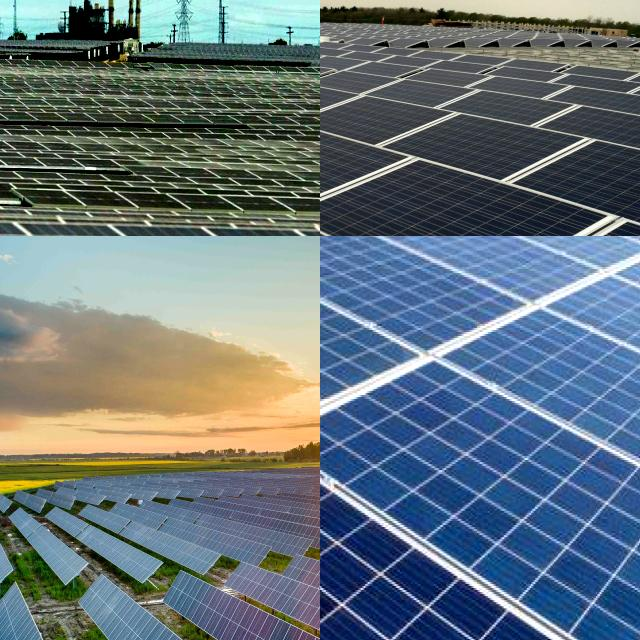crack: (320, 360, 640, 640), (320, 396, 640, 640), (320, 0, 640, 236), (438, 236, 640, 552), (320, 236, 486, 440), (320, 236, 536, 365), (320, 236, 530, 360), (328, 236, 605, 328), (320, 138, 570, 236), (538, 236, 640, 415)
